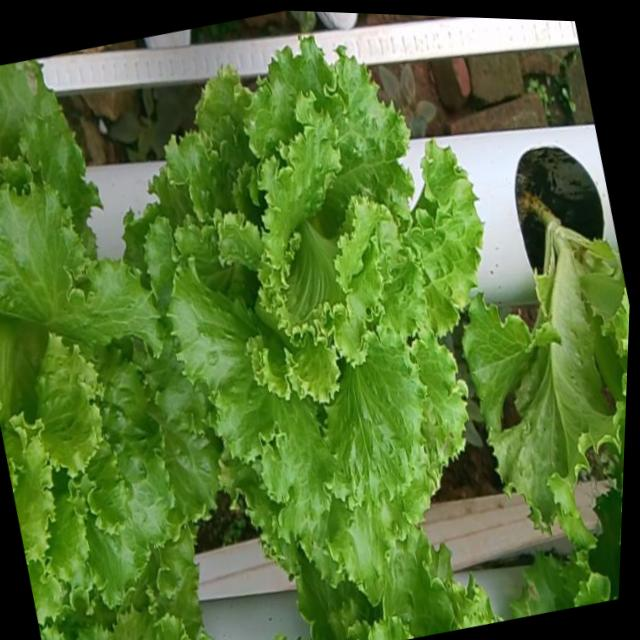Mature: (132, 29, 470, 571), (0, 162, 210, 594)
